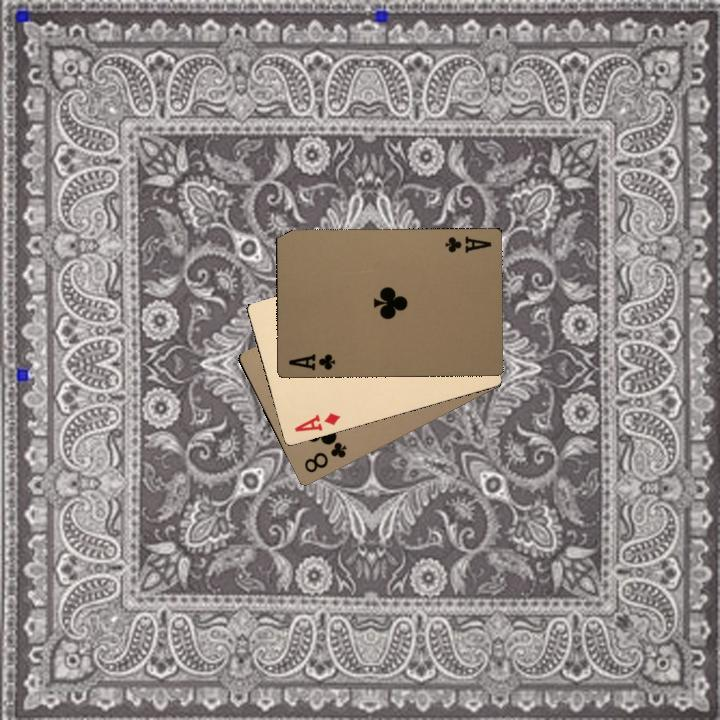8c: (300, 437, 350, 475)
Ac: (284, 349, 338, 373), (441, 232, 494, 255)
Ad: (290, 408, 342, 434)
